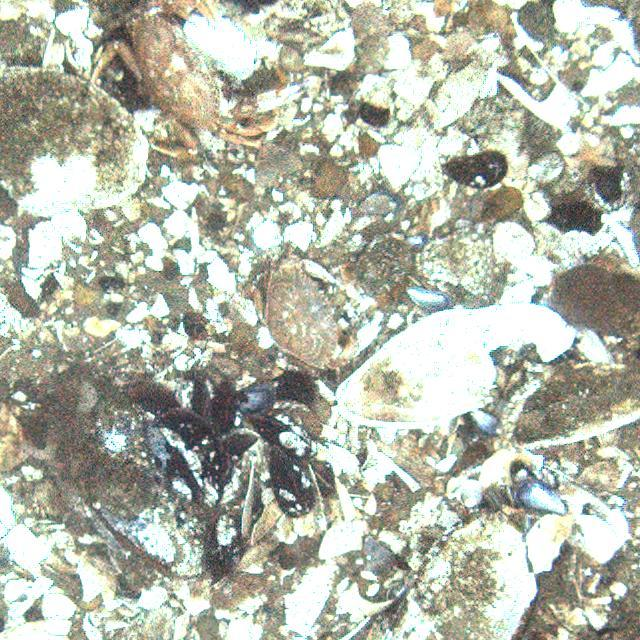crab: (96, 0, 293, 155), (266, 245, 374, 372)
